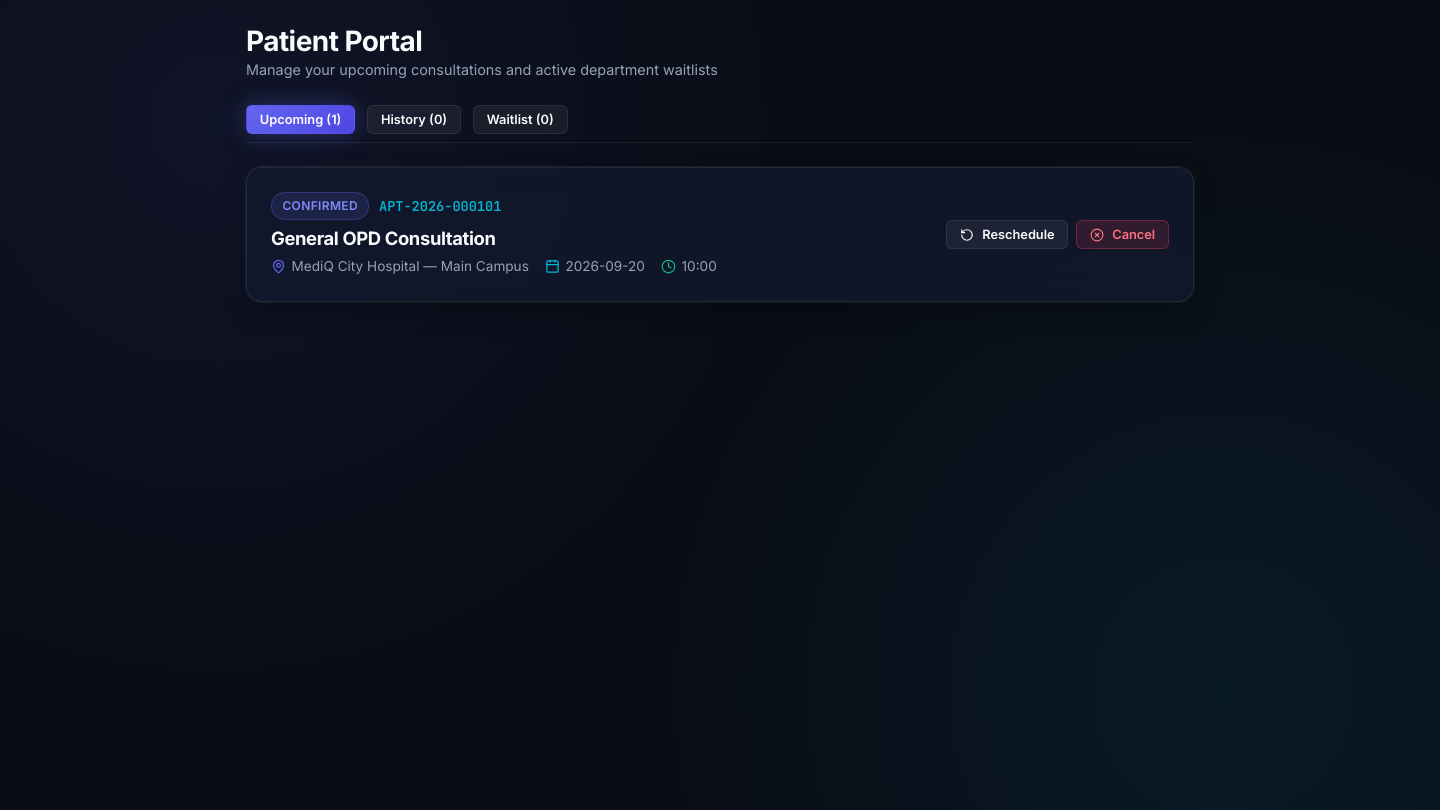
Test: CustomerDashboard Component › displays error message when reschedule fails because slot is unavailable
The image size is (1440, 810).
Click the button "Reschedule" at coordinates (1008, 234), box [946,220,1068,249]
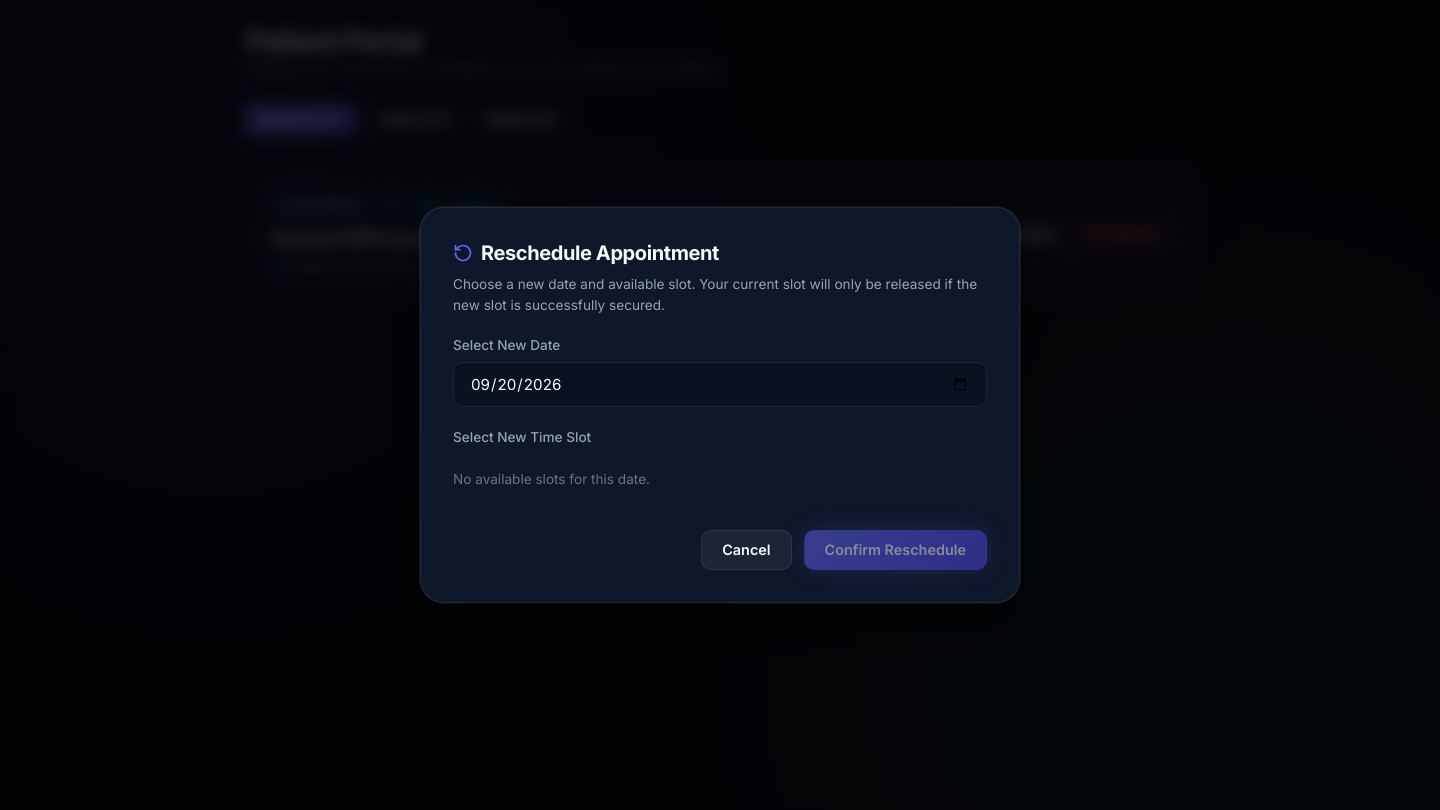
Type "2026-09-25" into the date field at coordinates (720, 385), box [453,362,987,407]
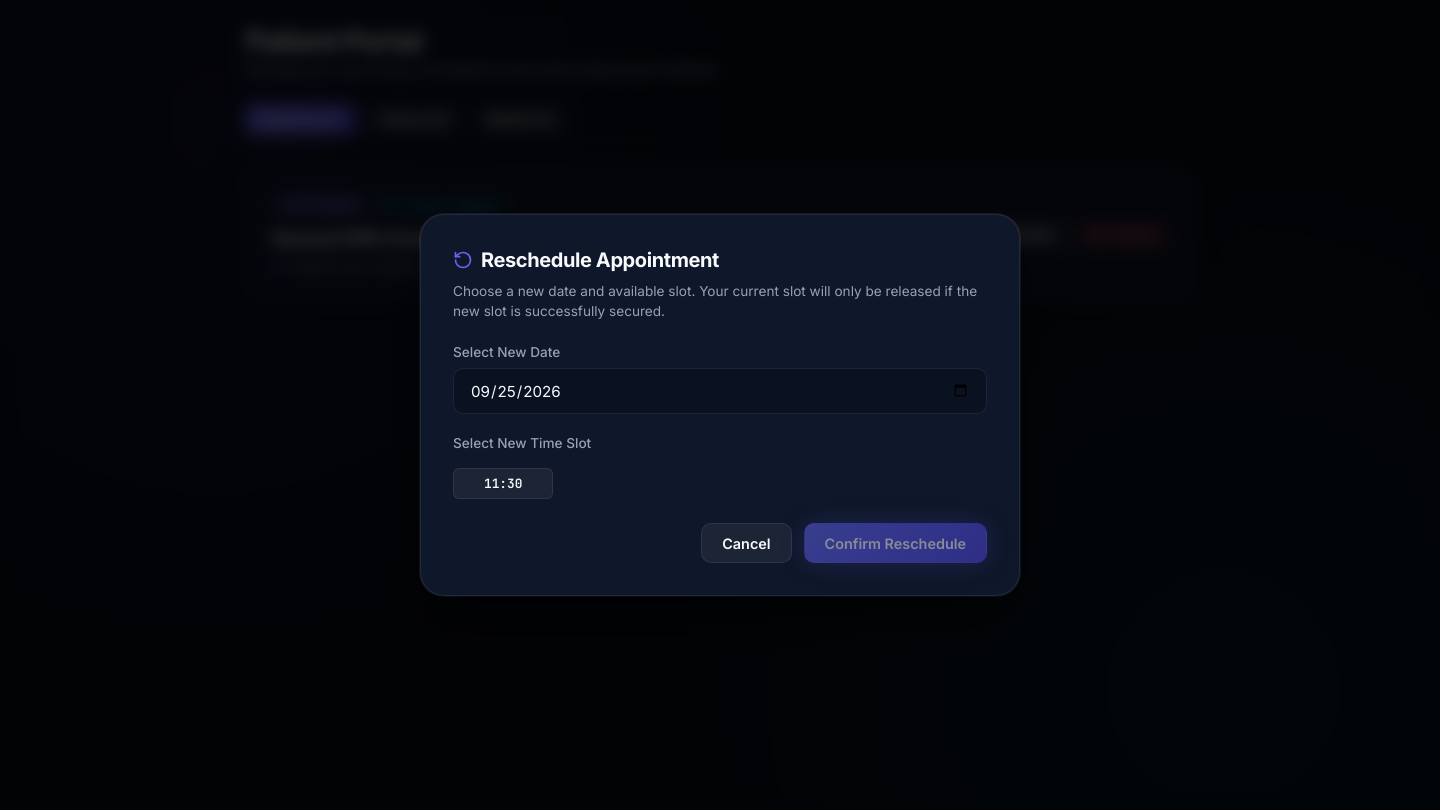
Click the button "11:30" at coordinates (503, 484), box [453,468,553,500]
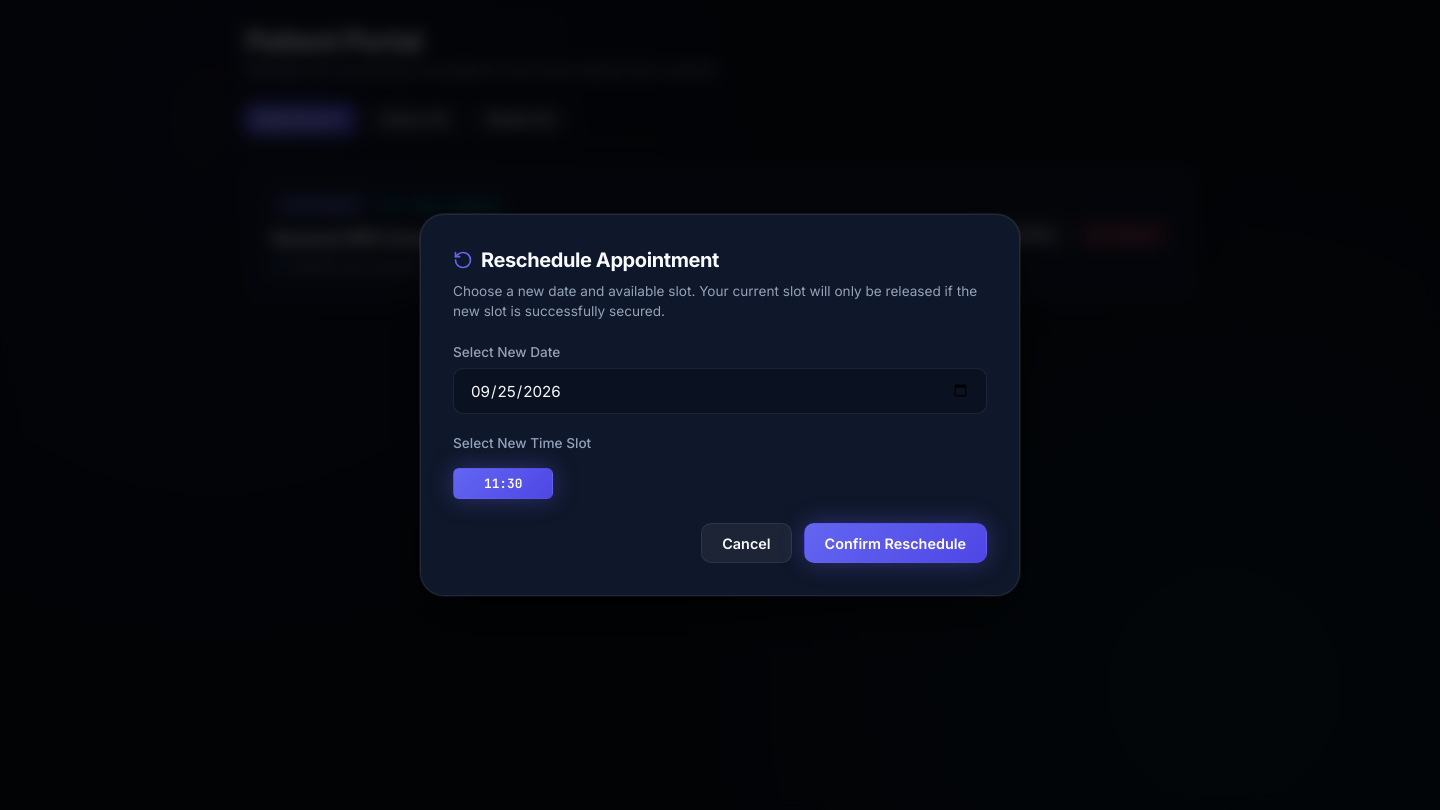
Click the button "Confirm Reschedule" at coordinates (895, 543), box [804,524,987,563]
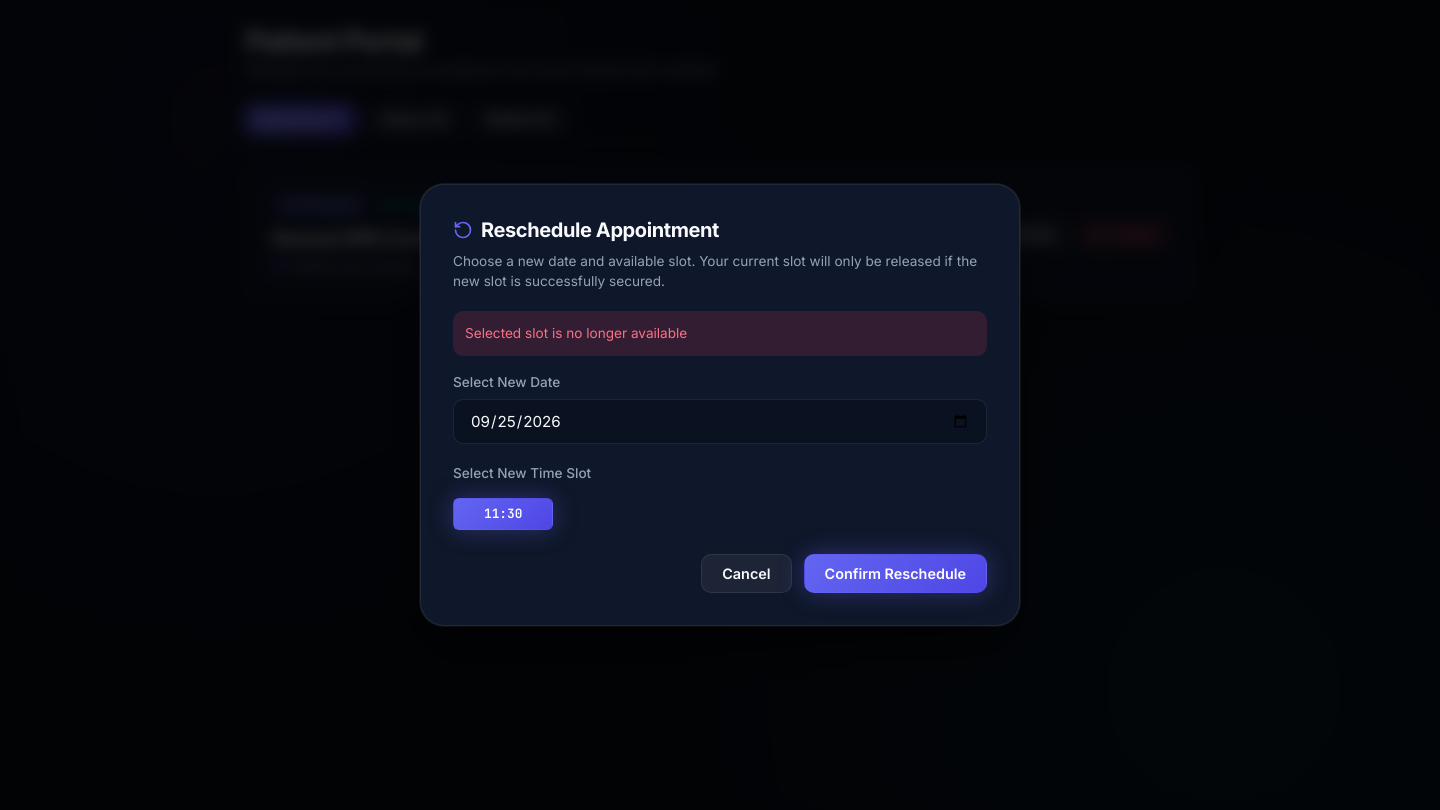
Expected: the text "Selected slot is no longer available" is shown, [453,311,987,356]
